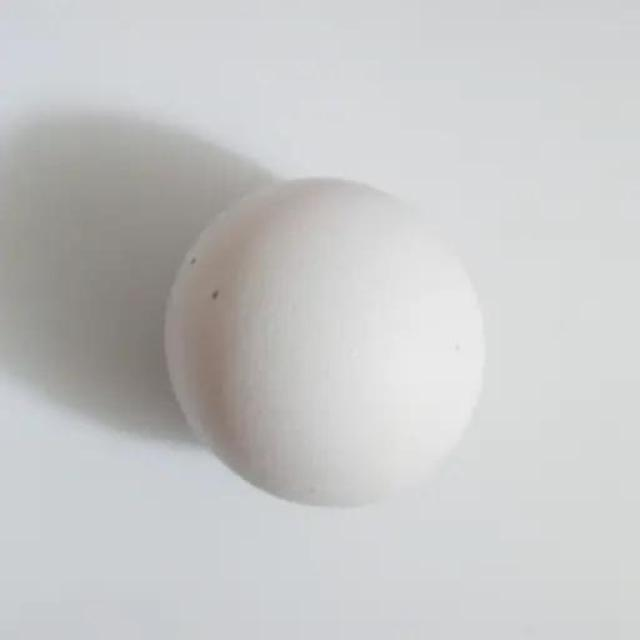telur: (162, 176, 491, 511)
